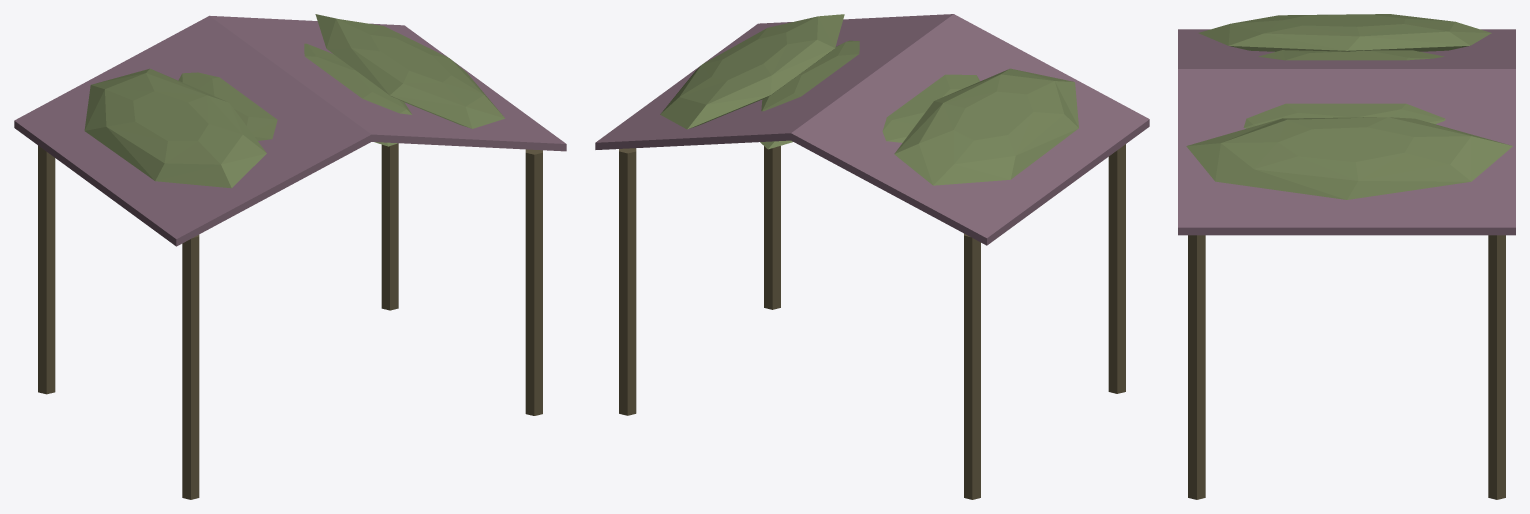
The model's file is leaf-shelter.glb.
3 views of the same model, side by side, from view 1: azimuth 30°, elevation 25°; view 2: azimuth 150°, elevation 25°; view 3: azimuth 270°, elevation 25° (orthographic). The views are drawn at different scales.
Visible parts, largest first — view 1: leaf-shelter__body; view 2: leaf-shelter__body; view 3: leaf-shelter__body.
Part boxes in pixels (x1,y1,x2,y2): leaf-shelter__body: [14, 14, 566, 499]; leaf-shelter__body: [595, 14, 1149, 499]; leaf-shelter__body: [1178, 14, 1515, 499].
Size of the model in its own units: 2.5 by 2 by 1.8.
